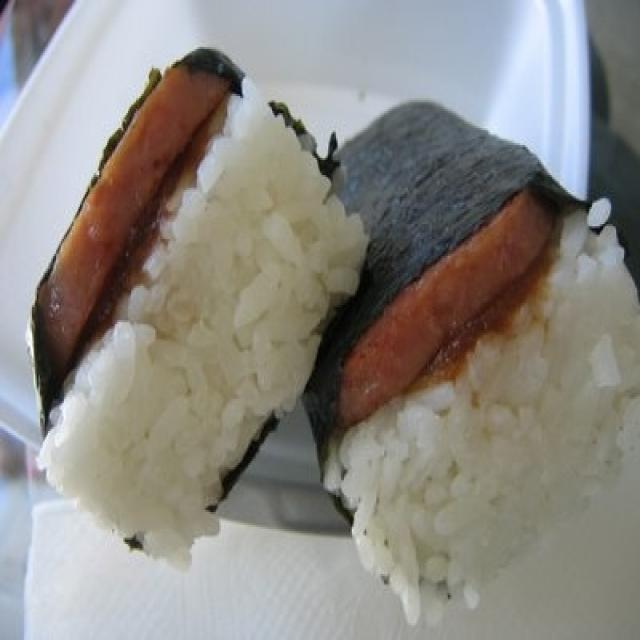寿司卷物: (8, 15, 626, 614)
